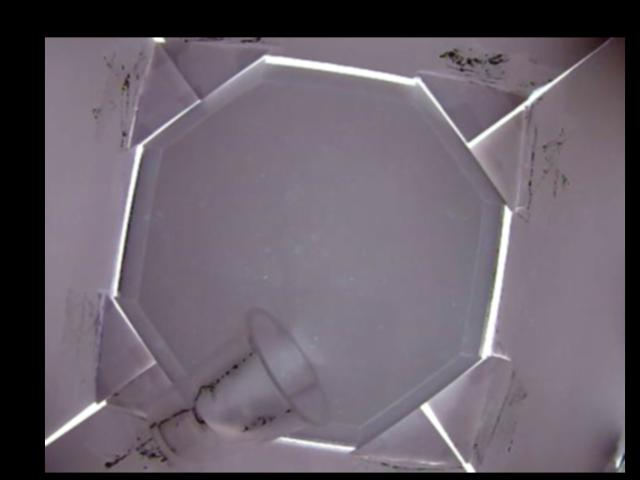Cup: (146, 307, 330, 468)
